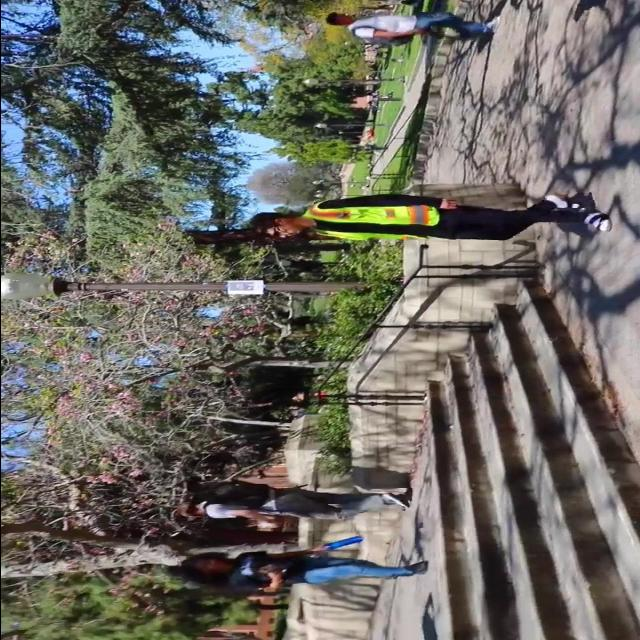jacket: (298, 192, 446, 248)
